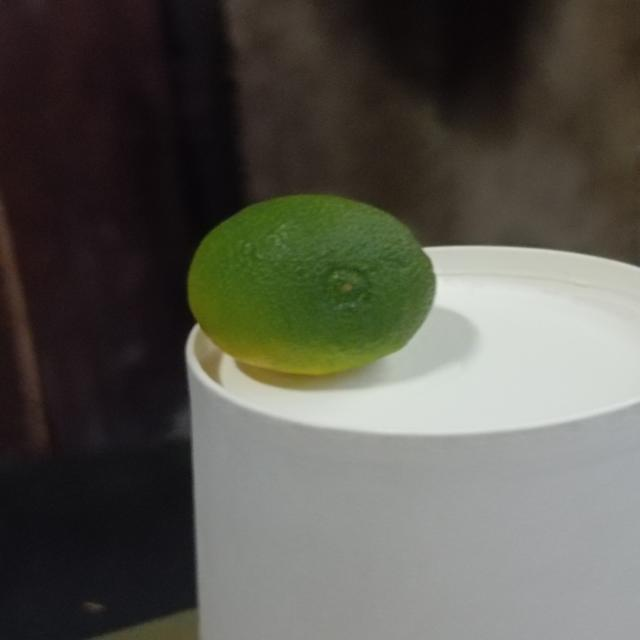heathy: (181, 189, 441, 380)
